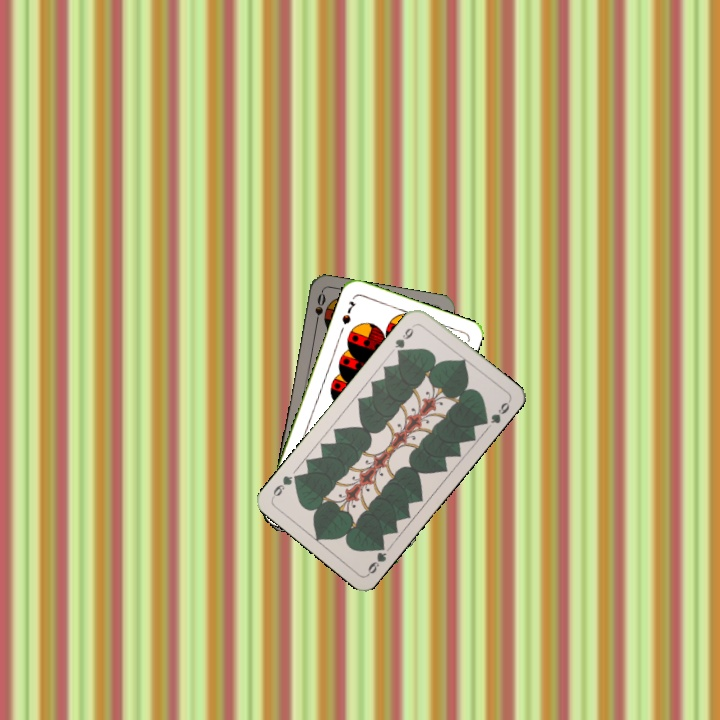G9: (390, 320, 419, 358), (363, 539, 389, 578)
S7: (338, 297, 358, 327)
SO: (311, 289, 328, 329)
